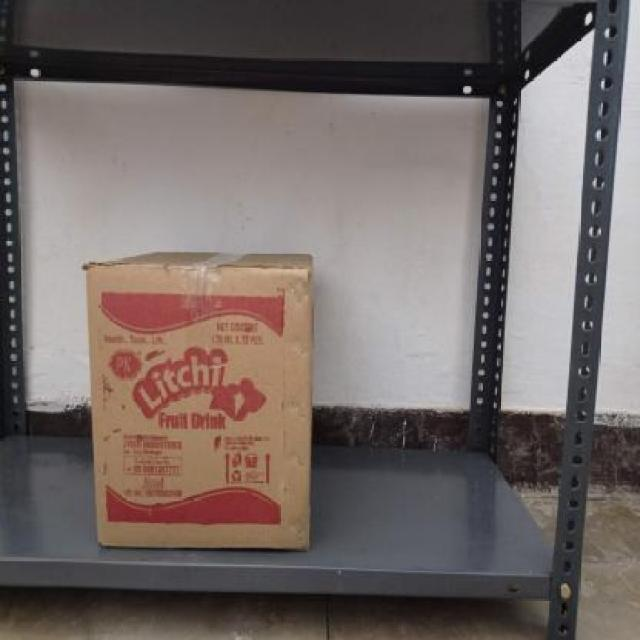box: (82, 259, 310, 550)
